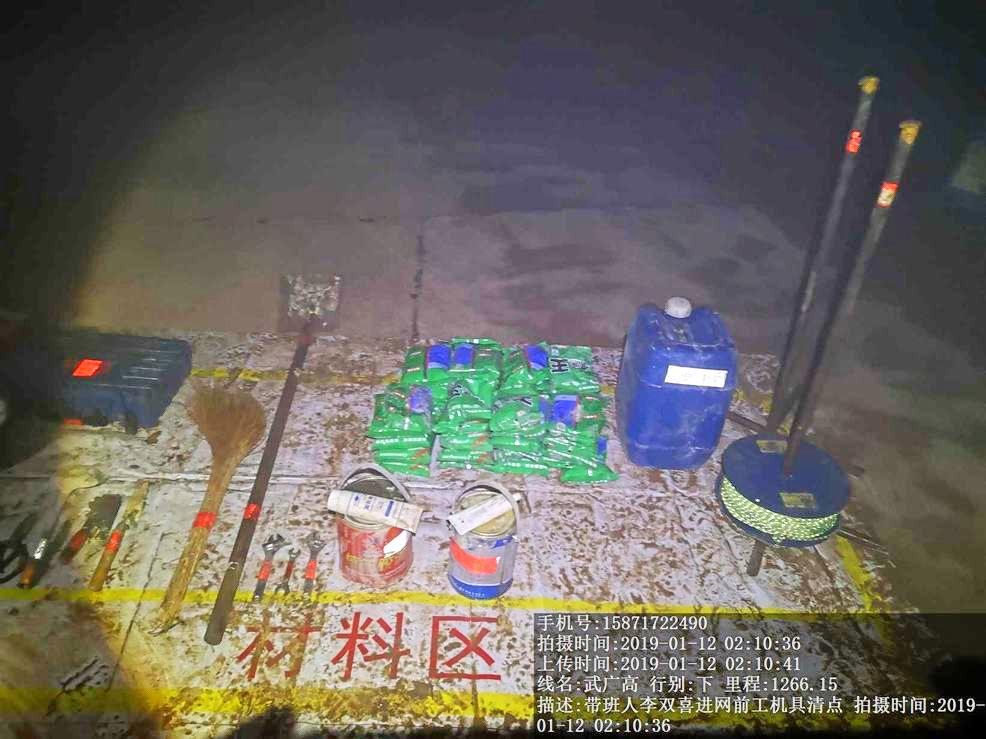SB: (160, 376, 250, 623)
SLT: (618, 293, 724, 469)
